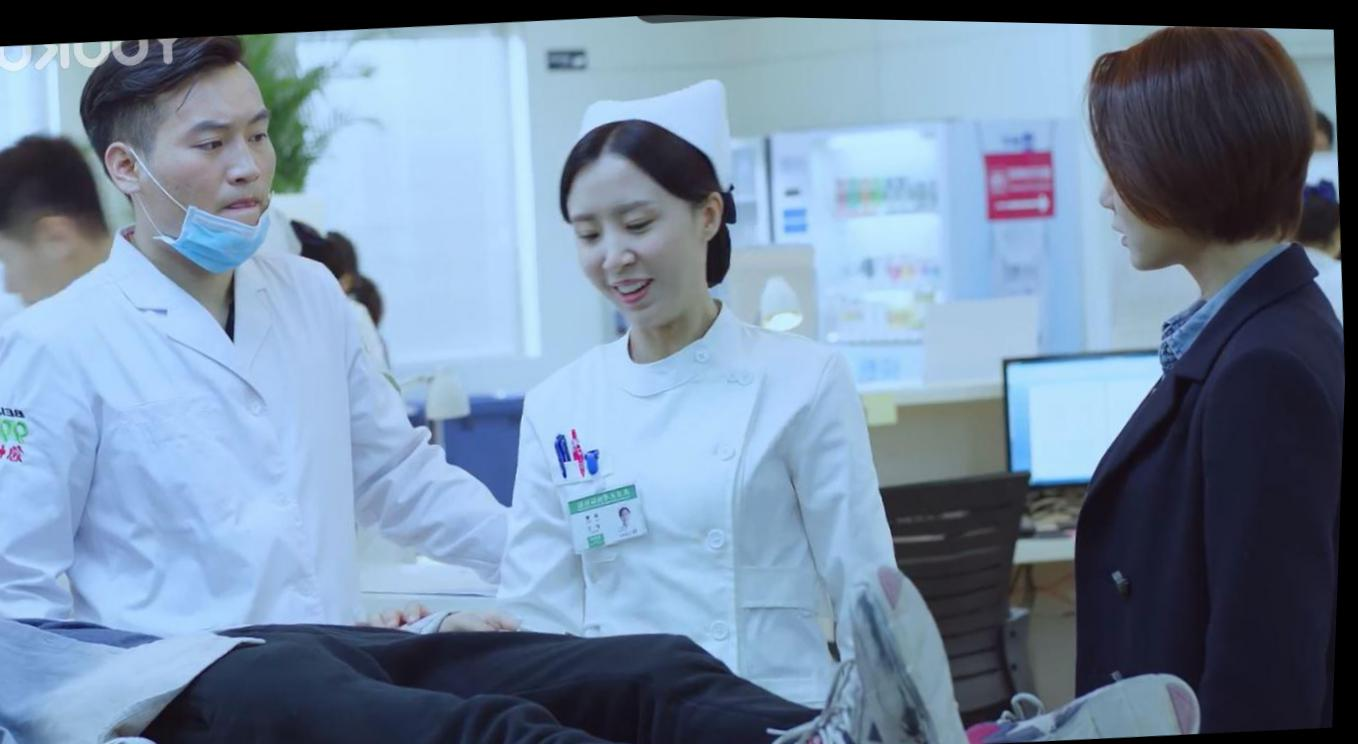NONE: (562, 180, 693, 338), (1090, 122, 1178, 273)
WRONG: (157, 77, 287, 266)
